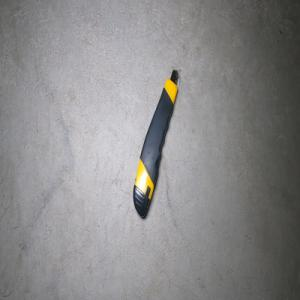Cutter: (132, 68, 179, 218)
